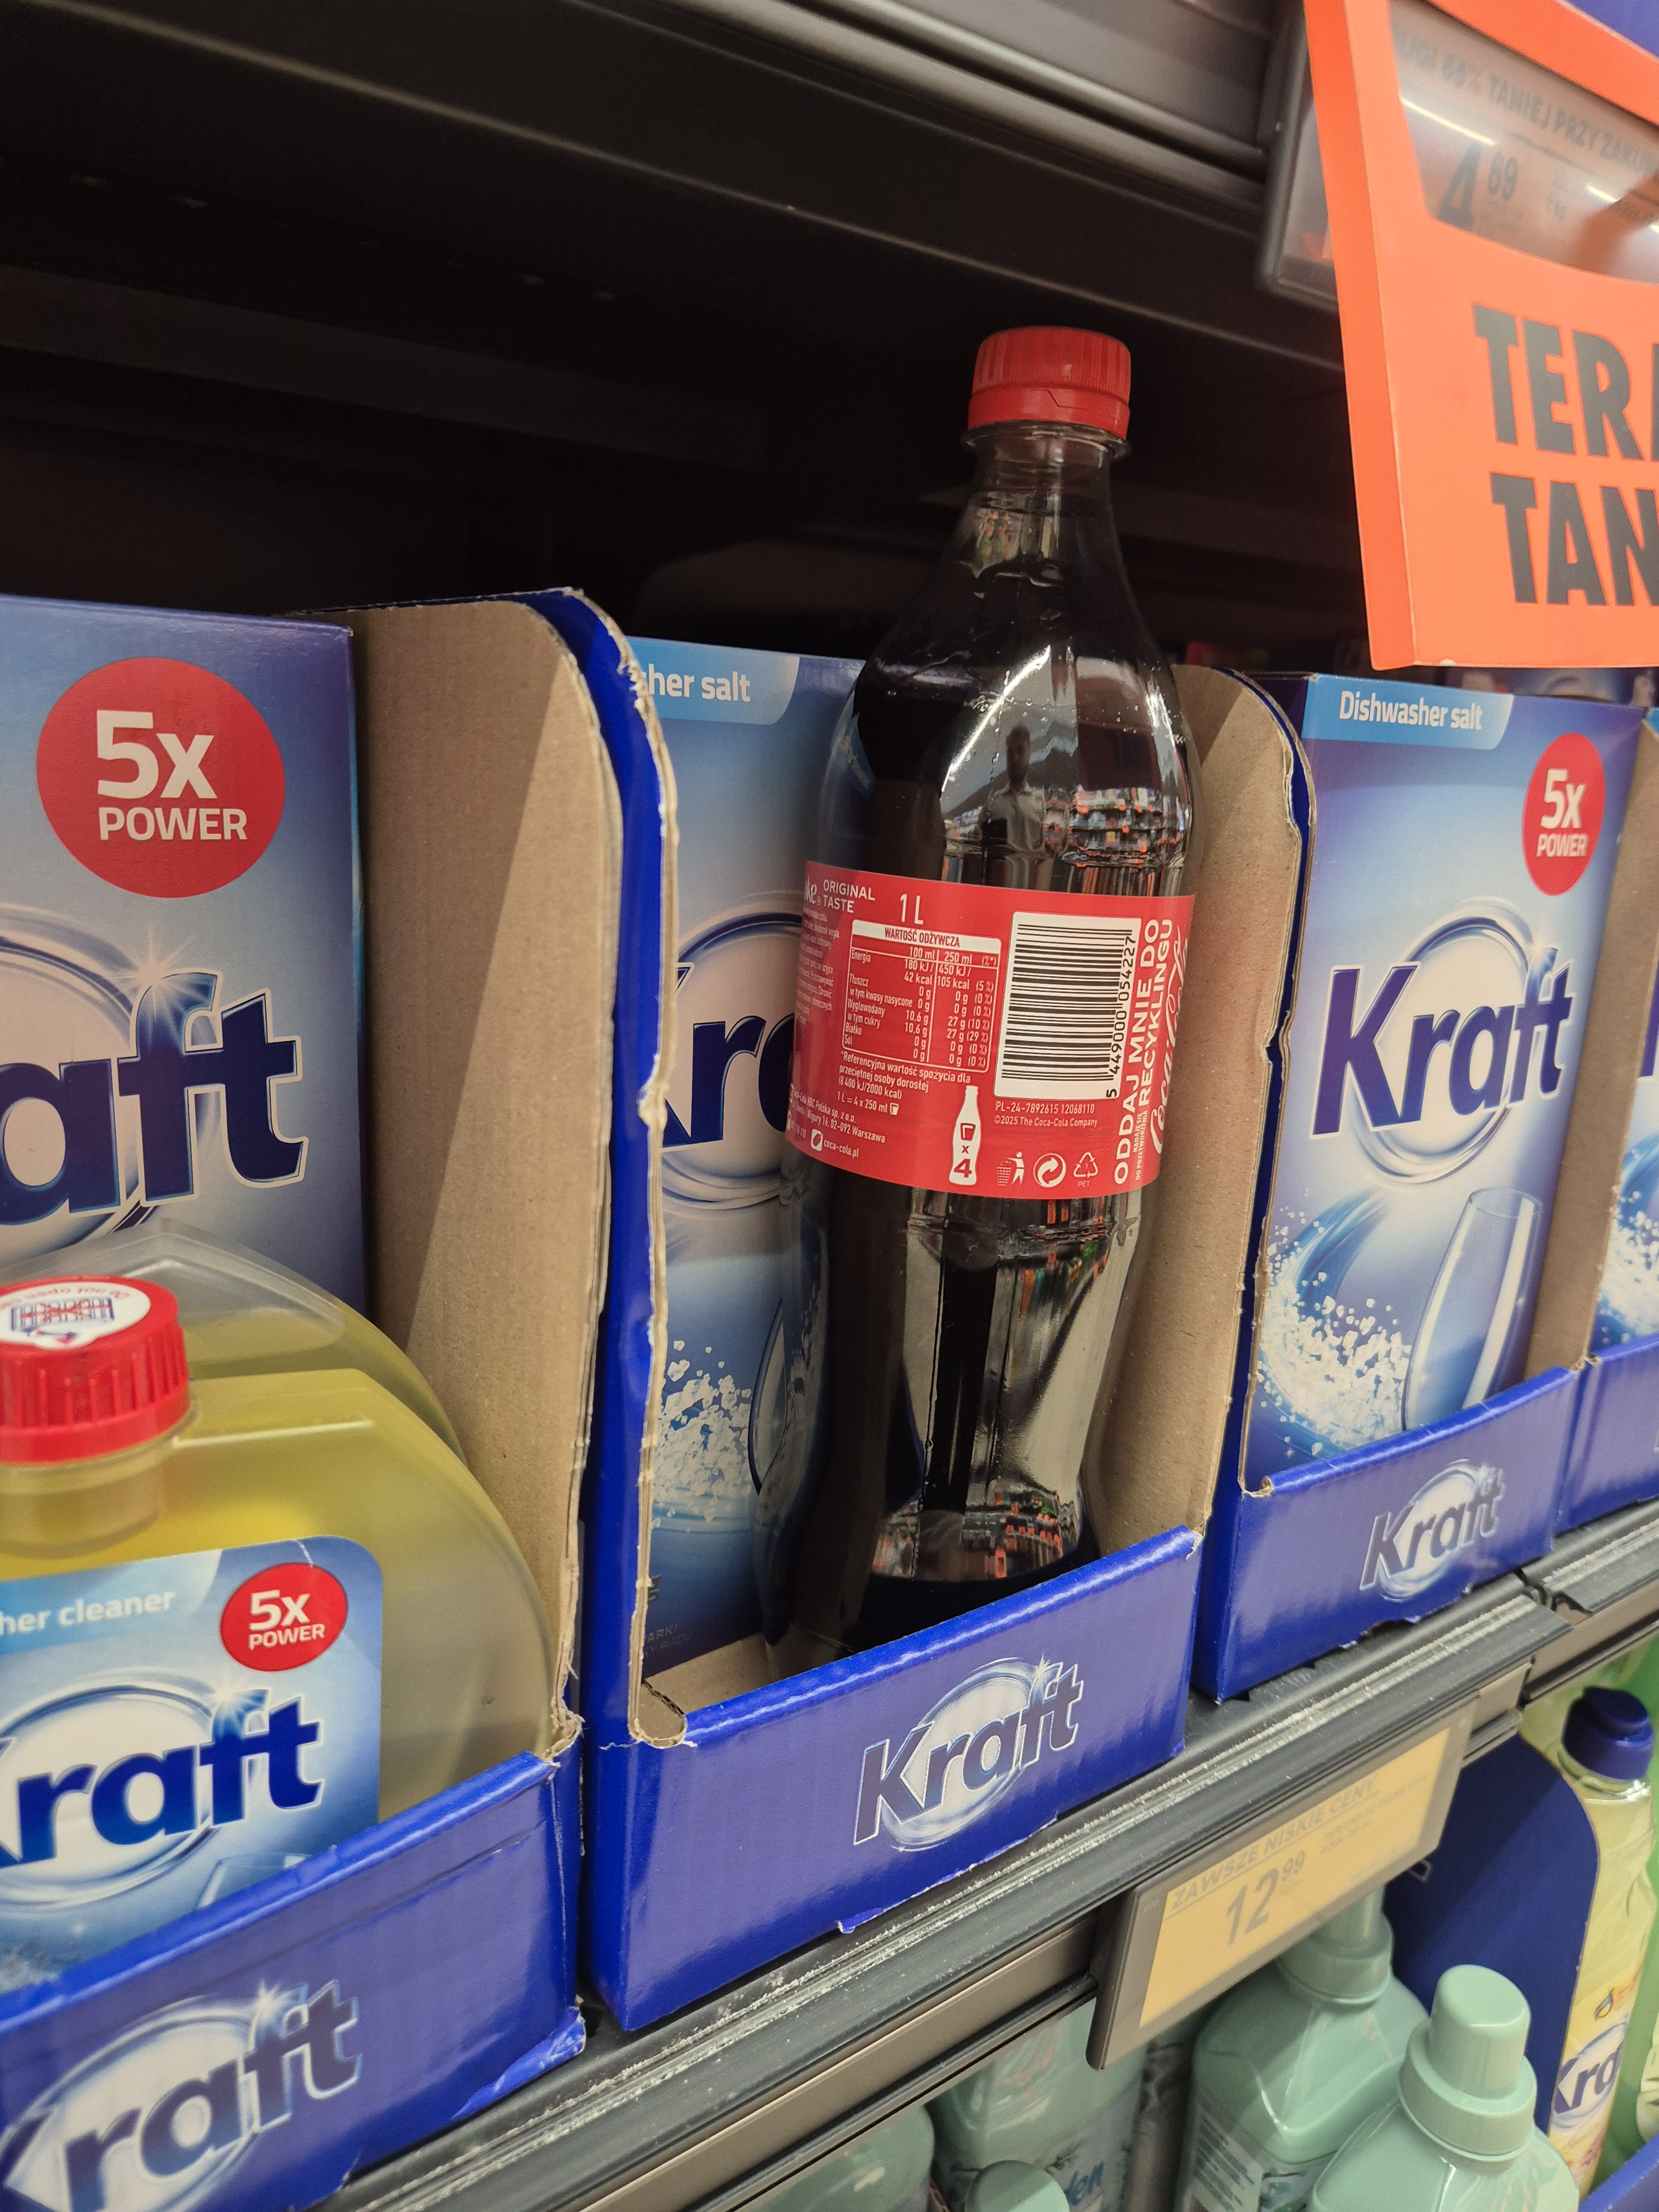Coca Cola: (828, 331, 1162, 1615)
